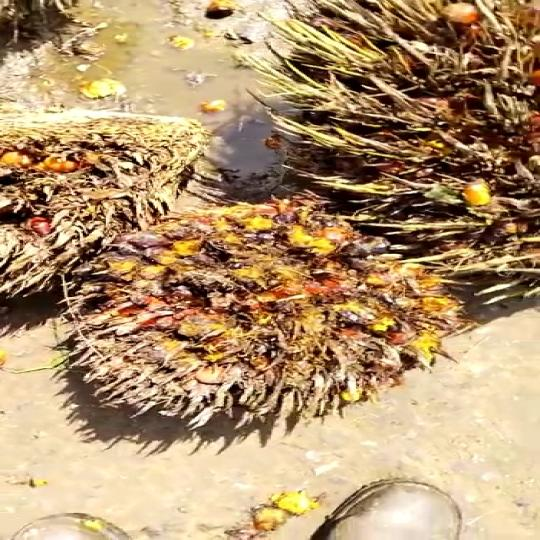terlalu masak: (50, 210, 475, 422)
